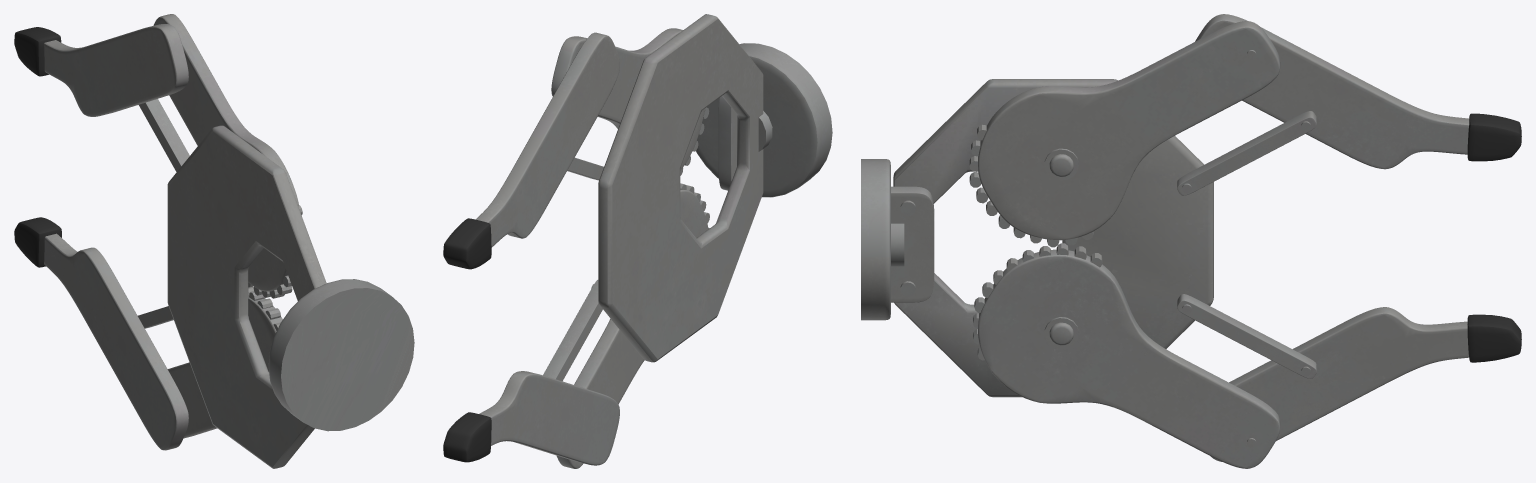
Rendered from claw.gltf.
3 renders of one model, left to right at view 1: azimuth 30°, elevation 25°; view 2: azimuth 150°, elevation 25°; view 3: azimuth 270°, elevation 25°, orthographic. The views are drawn at different scales.
Visible parts, largest first — view 1: Cylinder.017; view 2: Cylinder.017; view 3: Cylinder.017.
Boxes of the visible parts, x1=… form: Cylinder.017: x1=14, y1=14, x2=414, y2=468; Cylinder.017: x1=443, y1=14, x2=832, y2=468; Cylinder.017: x1=861, y1=14, x2=1521, y2=468.
Size of the model in its own units: 0.3373 by 1.02 by 1.37.
3 materials, 3 textured.
